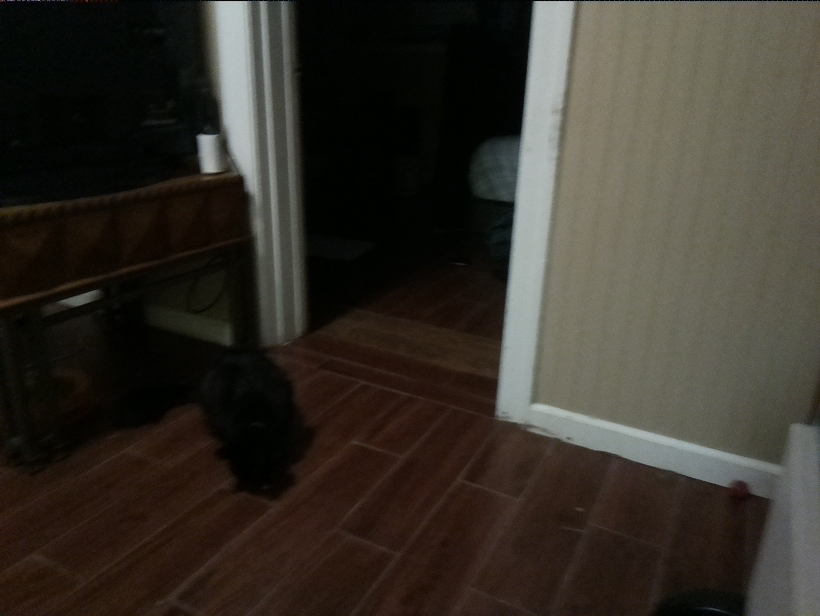cat: (194, 349, 319, 491)
